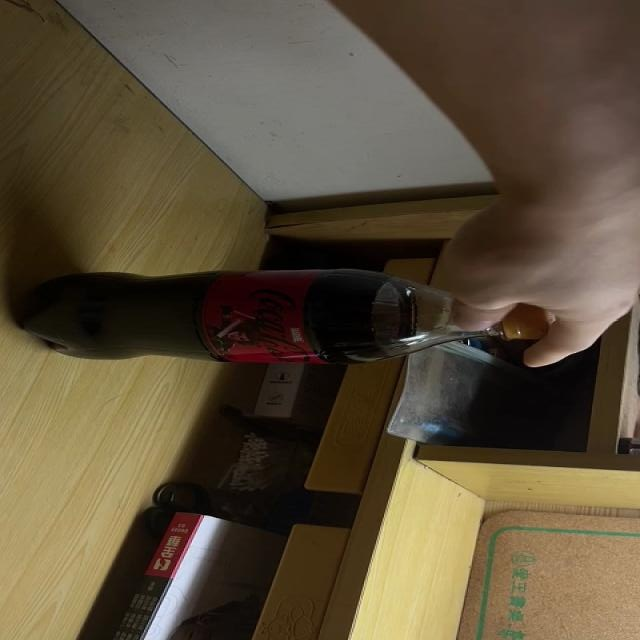Coca-Cola: (15, 269, 555, 362)
